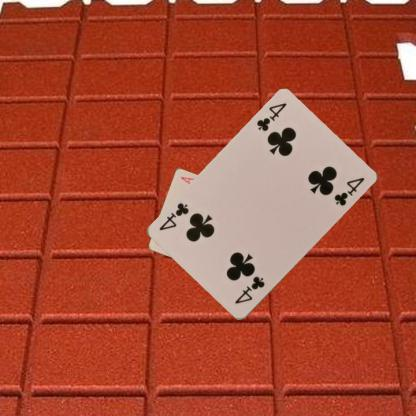4c: (254, 100, 288, 134), (232, 273, 266, 306)
